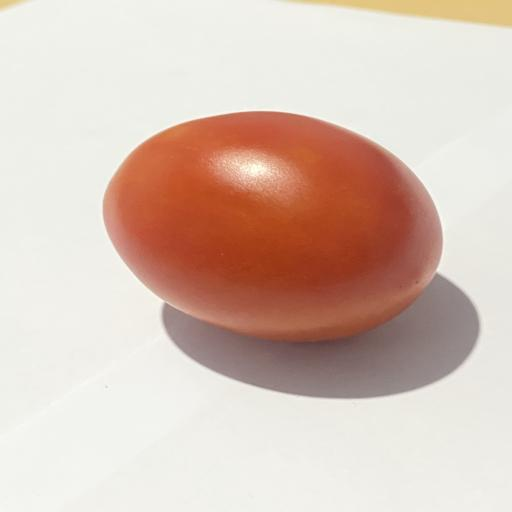ripe: (103, 111, 442, 341)
